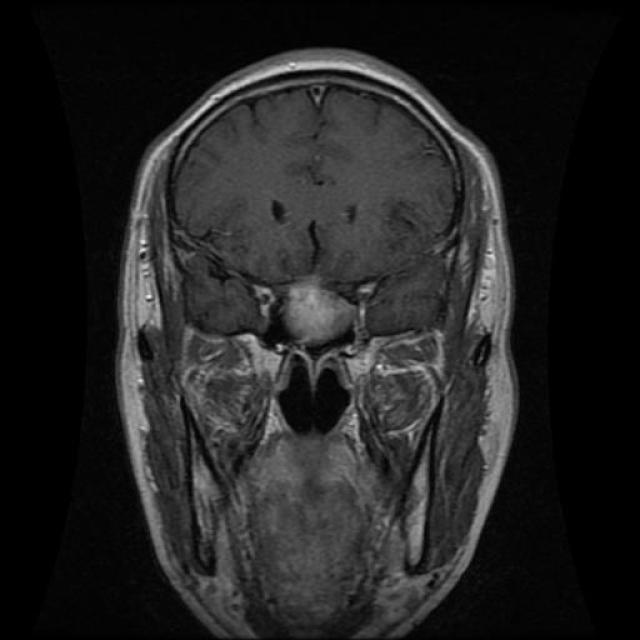pituitary: (278, 264, 387, 354)
